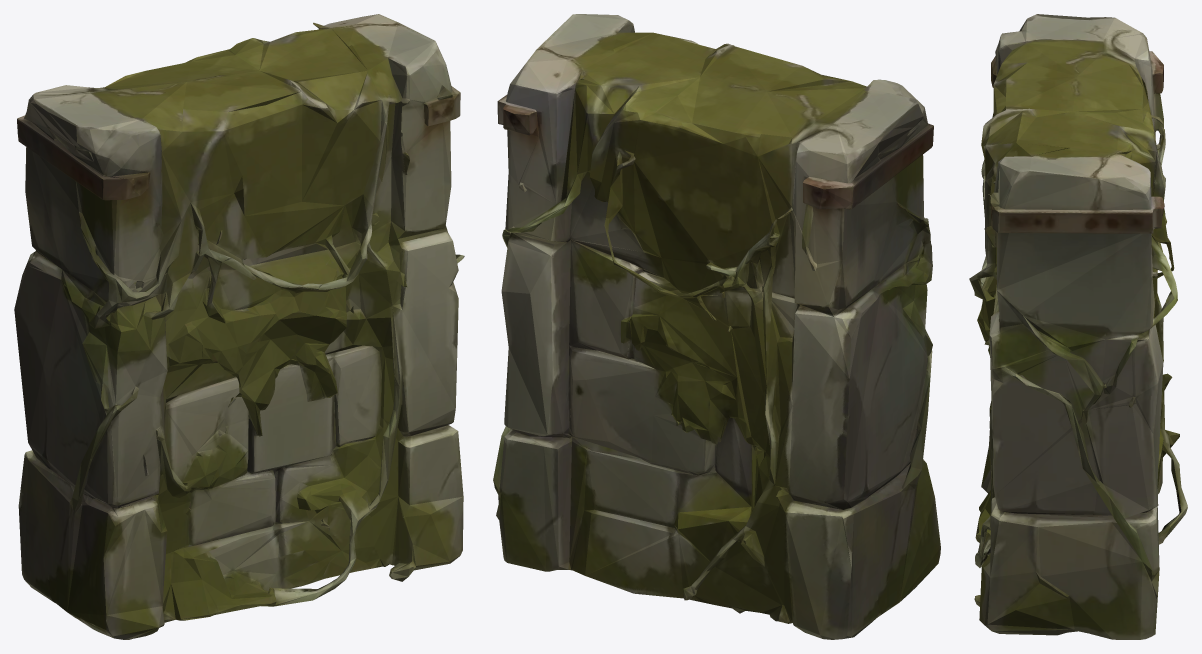
Rendered from wall_mossy.glb.
The picture shows the model from 3 angles, left to right: view 1: azimuth 30°, elevation 25°; view 2: azimuth 150°, elevation 25°; view 3: azimuth 270°, elevation 25°; orthographic projection. The views are drawn at different scales.
Parts seen in each view (by area): view 1: world; view 2: world; view 3: world.
Boxes of the visible parts, x1=… form: world: x1=14, y1=14, x2=464, y2=639; world: x1=493, y1=14, x2=940, y2=639; world: x1=969, y1=14, x2=1187, y2=639.
Bounding box in the file's own units: 0.7938 × 0.9977 × 0.4255.
1 material, 1 textured.
